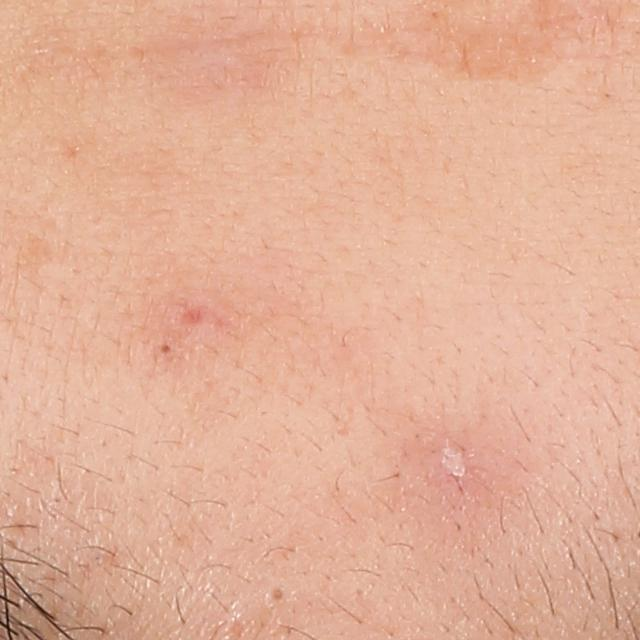atrophic_scar: (181, 304, 210, 326)
comedo: (260, 582, 289, 610), (158, 341, 175, 355)
papule: (434, 437, 471, 488)
